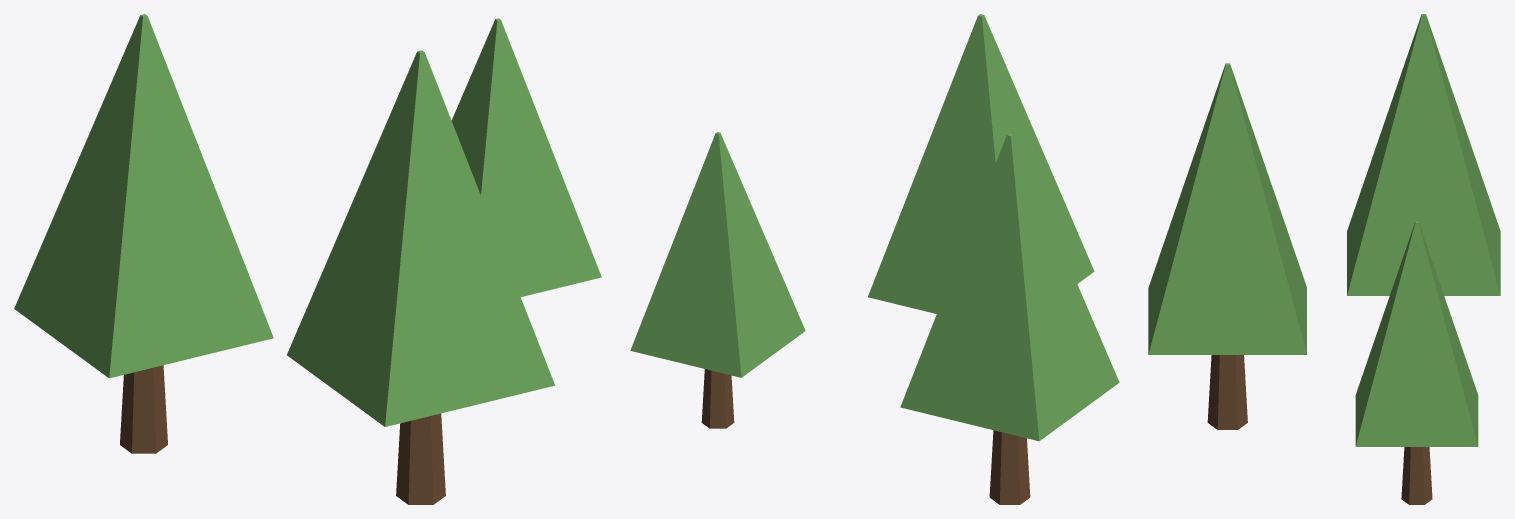
The model's file is Environment_Objects_Tree_08.fbx.
3 renders of one model, left to right at view 1: azimuth 30°, elevation 25°; view 2: azimuth 150°, elevation 25°; view 3: azimuth 270°, elevation 25°, orthographic. The views are drawn at different scales.
Visible parts, largest first — view 1: Environment_Objects_Tree_08; view 2: Environment_Objects_Tree_08; view 3: Environment_Objects_Tree_08.
Boxes of the visible parts, box(x1,y1,x2,y2) form: Environment_Objects_Tree_08: box(14, 14, 601, 504); Environment_Objects_Tree_08: box(630, 14, 1119, 504); Environment_Objects_Tree_08: box(1148, 14, 1500, 504).
Bounding box in the file's own units: 470 × 400 × 356.
